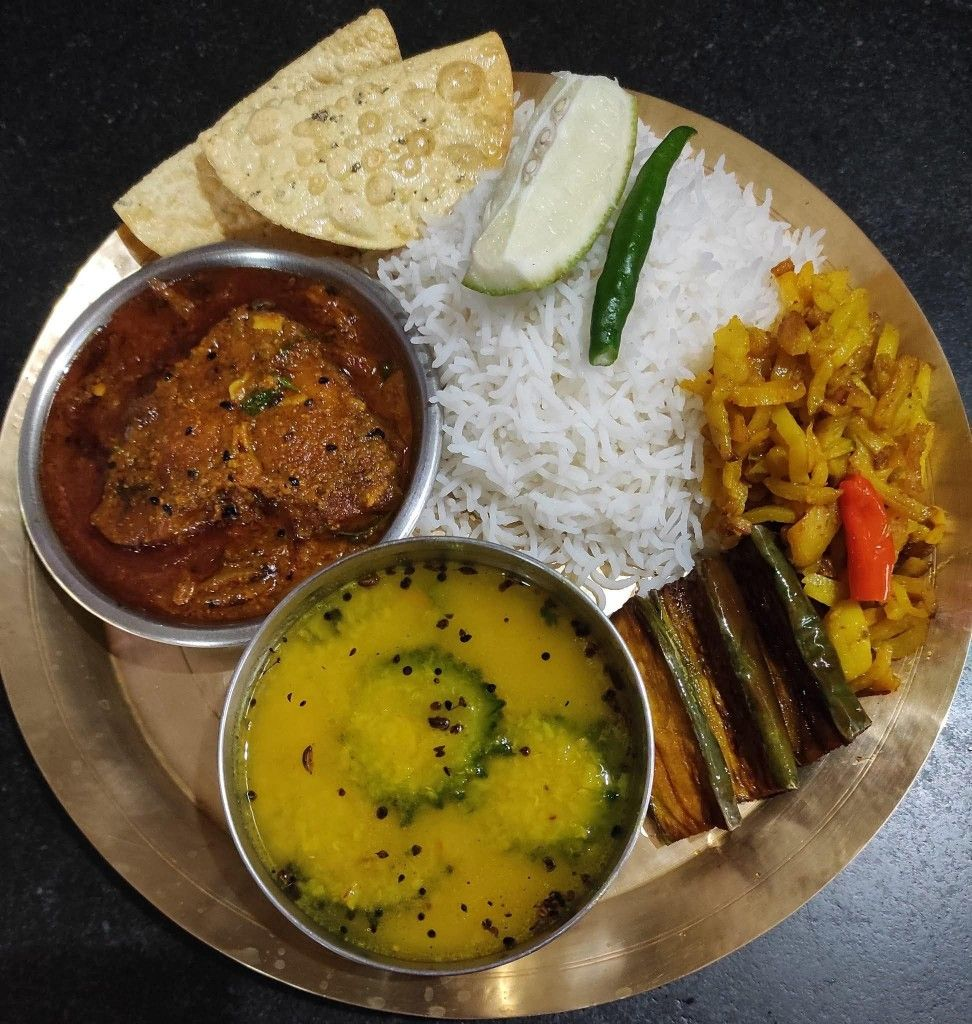bhat: (378, 92, 831, 588)
dal: (258, 550, 632, 963)
sabji: (711, 288, 927, 684), (617, 546, 873, 831)
